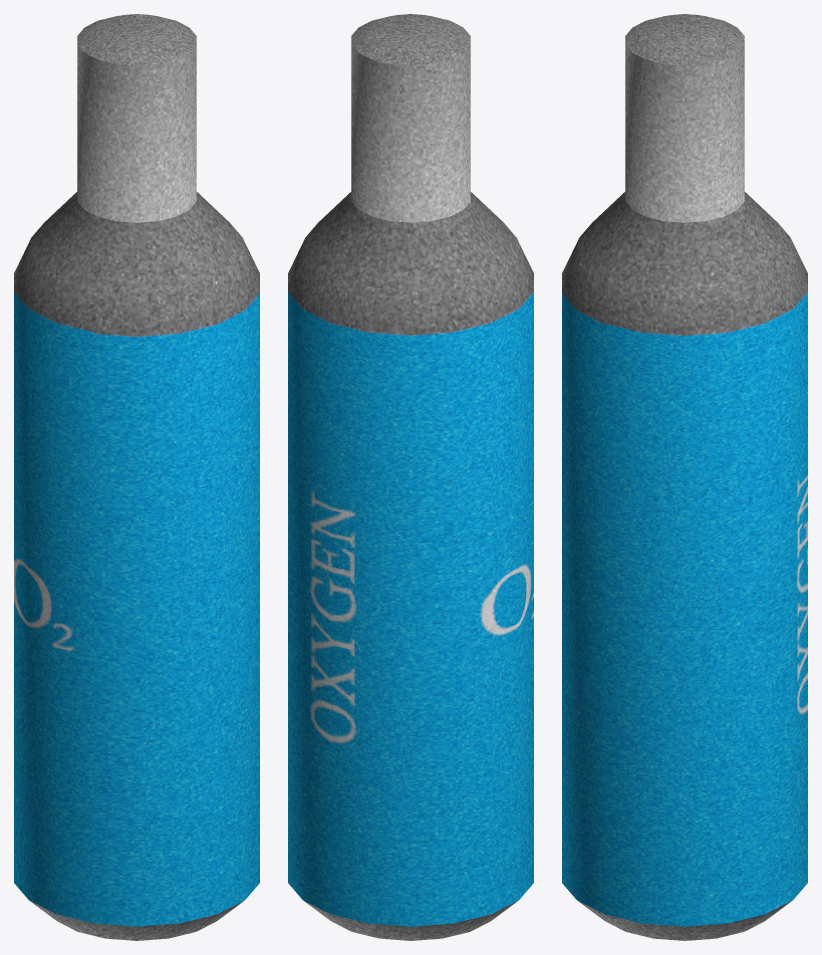
File: oxygen.FBX
3 views of the same model, side by side, from view 1: azimuth 30°, elevation 25°; view 2: azimuth 150°, elevation 25°; view 3: azimuth 270°, elevation 25° (orthographic).
Parts seen in each view (by area): view 1: Cylinder001; view 2: Cylinder001; view 3: Cylinder001.
Part boxes in pixels (left/top/right/bottom): Cylinder001: left=14, top=14, right=259, bottom=940; Cylinder001: left=288, top=14, right=533, bottom=940; Cylinder001: left=562, top=14, right=807, bottom=940.
Bounding box in the file's own units: 0.3655 × 1.41 × 0.3599.
1 material, 1 textured.
